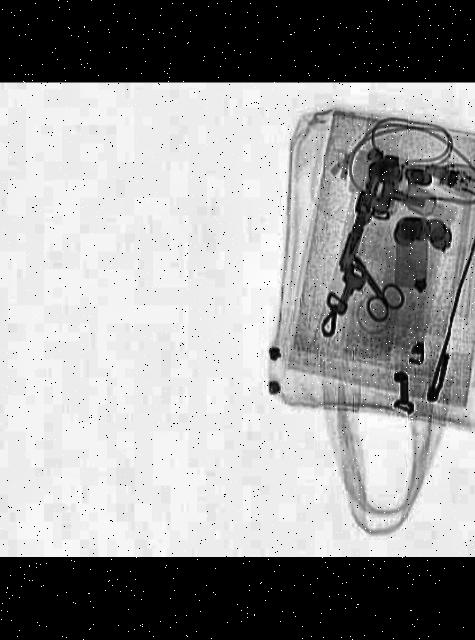Scissors: (333, 248, 412, 327)
